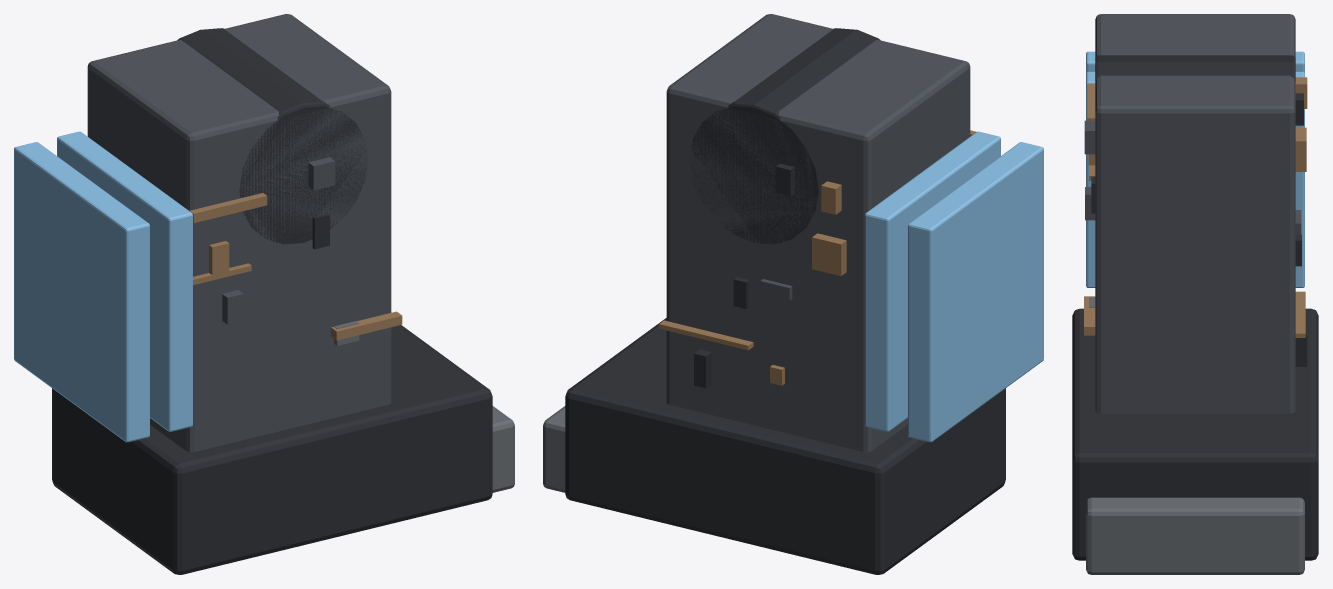
File: module_thruster_quad.fbx
The picture shows the model from 3 angles, left to right: view 1: azimuth 30°, elevation 25°; view 2: azimuth 150°, elevation 25°; view 3: azimuth 270°, elevation 25°; orthographic projection. The views are drawn at different scales.
Visible parts, largest first — view 1: SM_Module_ThrusterQuad; view 2: SM_Module_ThrusterQuad; view 3: SM_Module_ThrusterQuad.
Part boxes in pixels (x1,y1,x2,y2): SM_Module_ThrusterQuad: [14, 14, 514, 574]; SM_Module_ThrusterQuad: [543, 14, 1043, 574]; SM_Module_ThrusterQuad: [1072, 14, 1318, 574].
Size of what is drawn, in the model's own units: 95.5 by 101 by 54.
